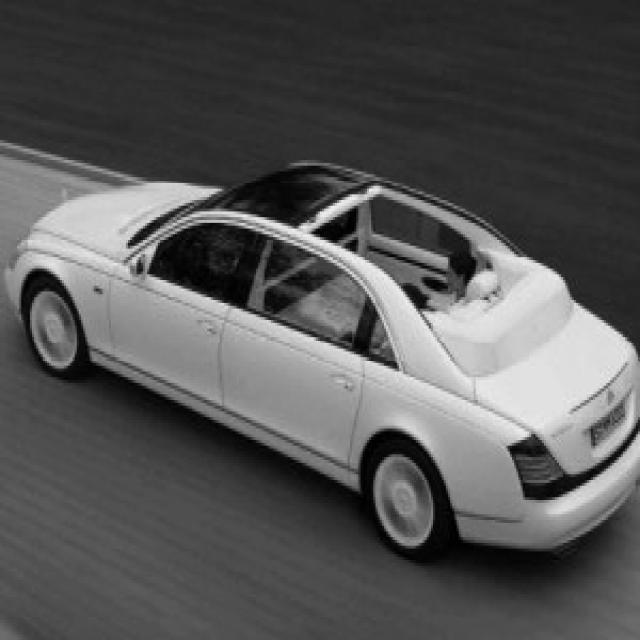car: (2, 160, 638, 563)
